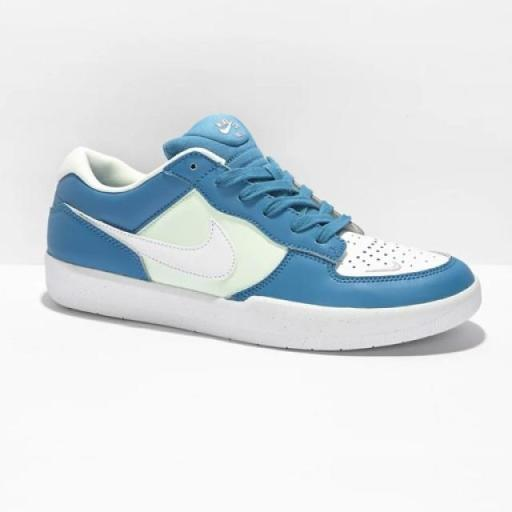Nike: (59, 201, 241, 288)
